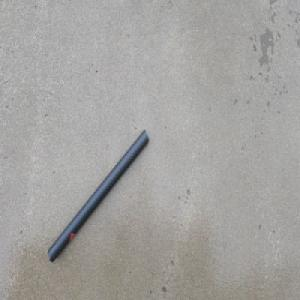LuggagePart: (46, 129, 149, 263)
